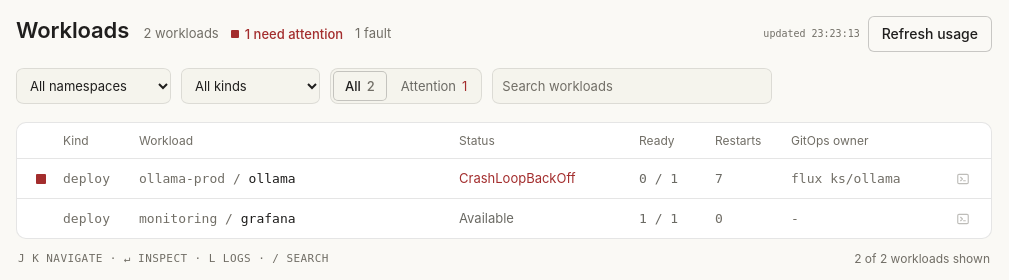
Test: WorkloadsView › filter input narrows workload rows
This screenshot has width=1009, height=280.
In the search field with placeholder "Search workloads": (632, 86) [492, 66, 772, 106], type "grafana"
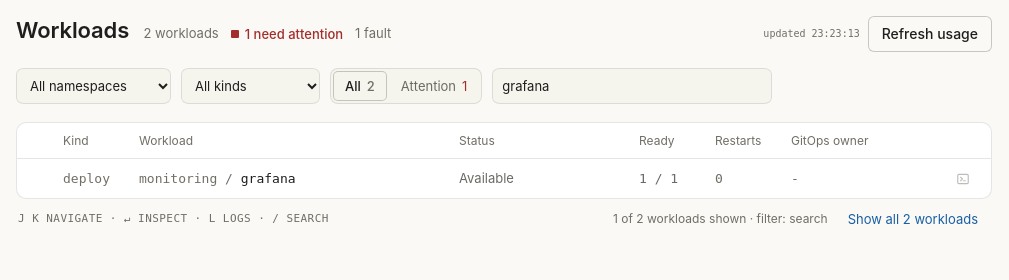
Expected: the text "grafana" is shown, [241, 170, 296, 186]
Expected: the button "ollama" is gone
